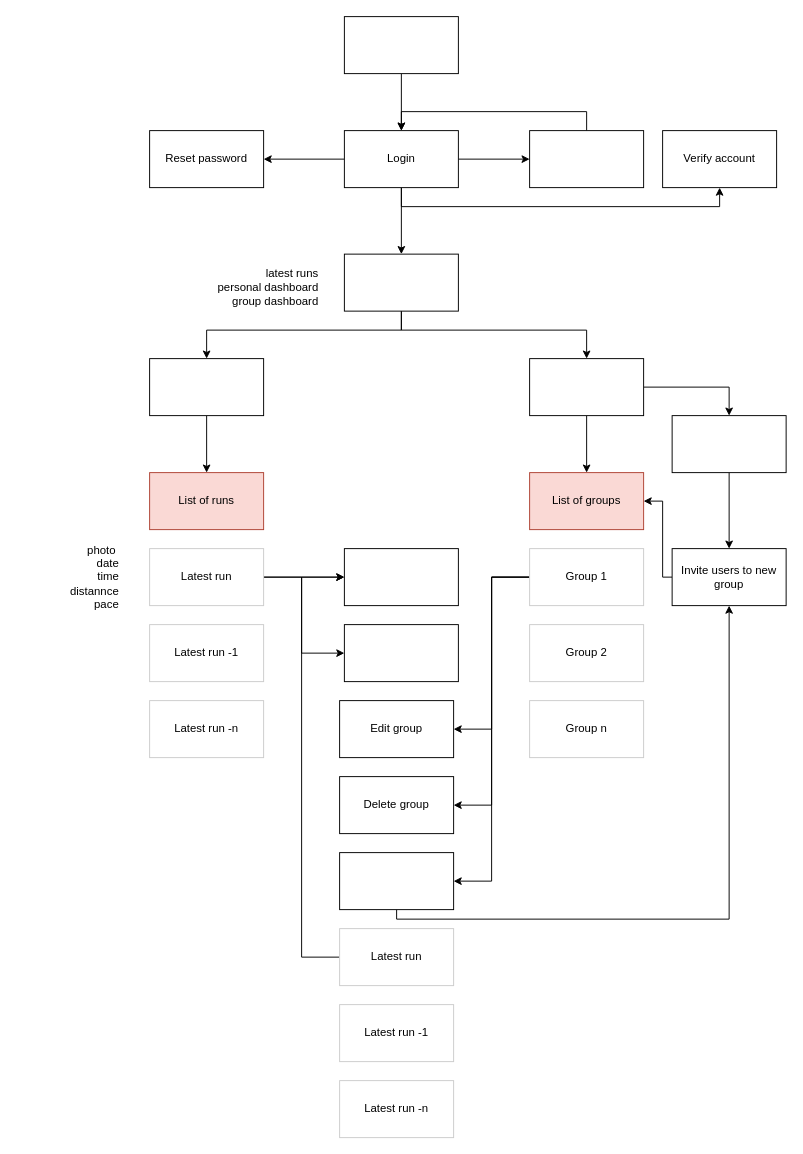
This 803x1154 diagram has some shape labels left out. The shapes that lost their labels are listed below. From the top down, each one's centre as x and y in pixels, then its label:
At (x=400, y=45): "Home page".
At (x=586, y=159): "Create account".
At (x=400, y=282): "User dashboard".
At (x=206, y=387): "Personal dashboard".
At (x=586, y=387): "Group dashboards".
At (x=728, y=444): "Create group dashboard".
At (x=400, y=577): "Edit run".
At (x=400, y=653): "Delete run".
At (x=396, y=881): "View group".
